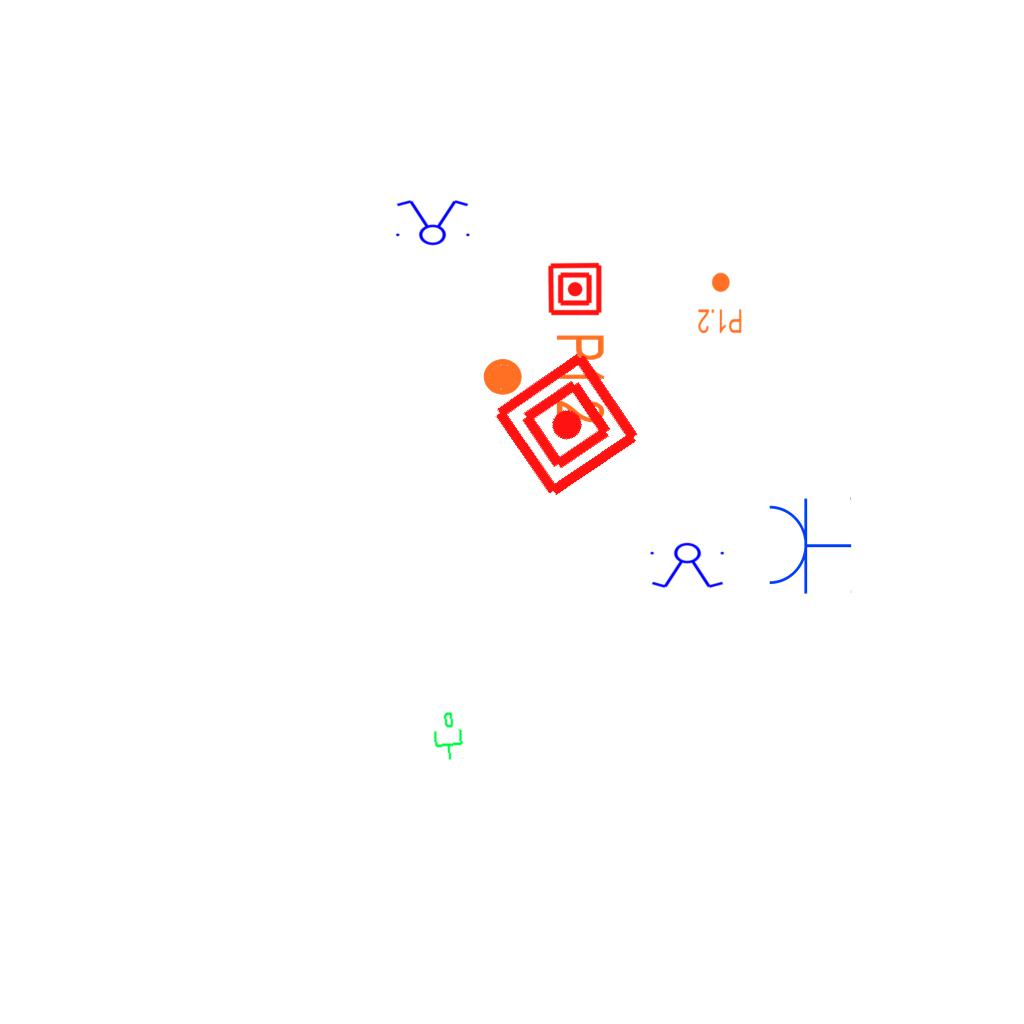Datenanschluss_einfach: (427, 709, 467, 763)
Downlight_LED_Einbauleuchten_Flur: (480, 332, 608, 425), (697, 271, 743, 335)
NAM-Nichtautomatischer_Melder: (488, 346, 645, 503), (547, 261, 603, 317)
Schukosteckdose_einfach: (765, 495, 852, 595)
Serienschalter: (390, 198, 474, 246), (646, 542, 730, 590)
